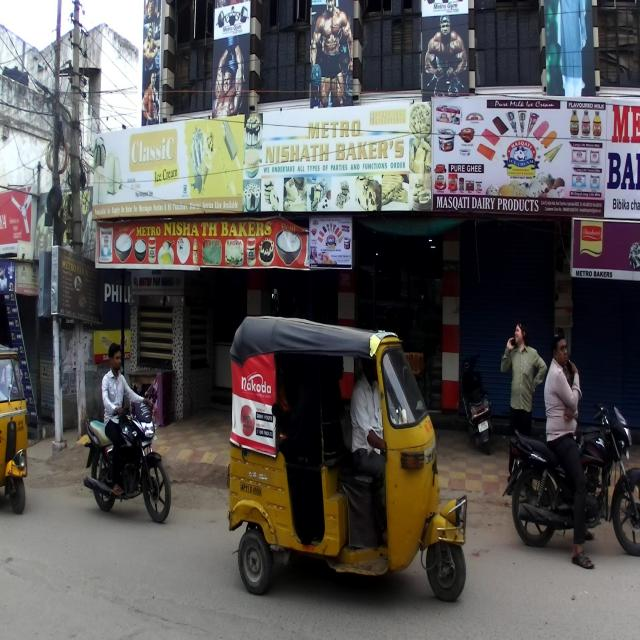autorickshaw: (225, 314, 468, 602)
motorcycle: (501, 398, 640, 561), (82, 398, 171, 522)
scooter: (459, 351, 494, 454)
